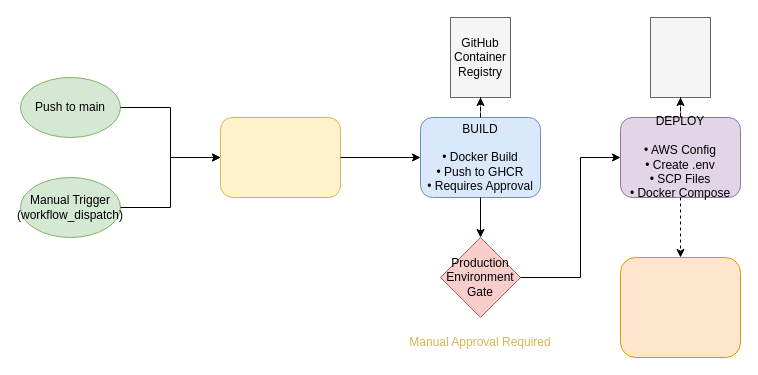
The diagram is 758 pixels wide and 375 high, and some of its shapes have lost their labels. Here are the shapes that lost their labels. From the top down, the centre of each, then its label:
At pixel 680 57: "AWS Server".
At pixel 280 157: "TAGGING Generate Tag (DDMMYYYYHHMM)".
At pixel 680 307: "Monitoring Stack • Prometheus • Alertmanager • HAProxy • Slack Notifications".
